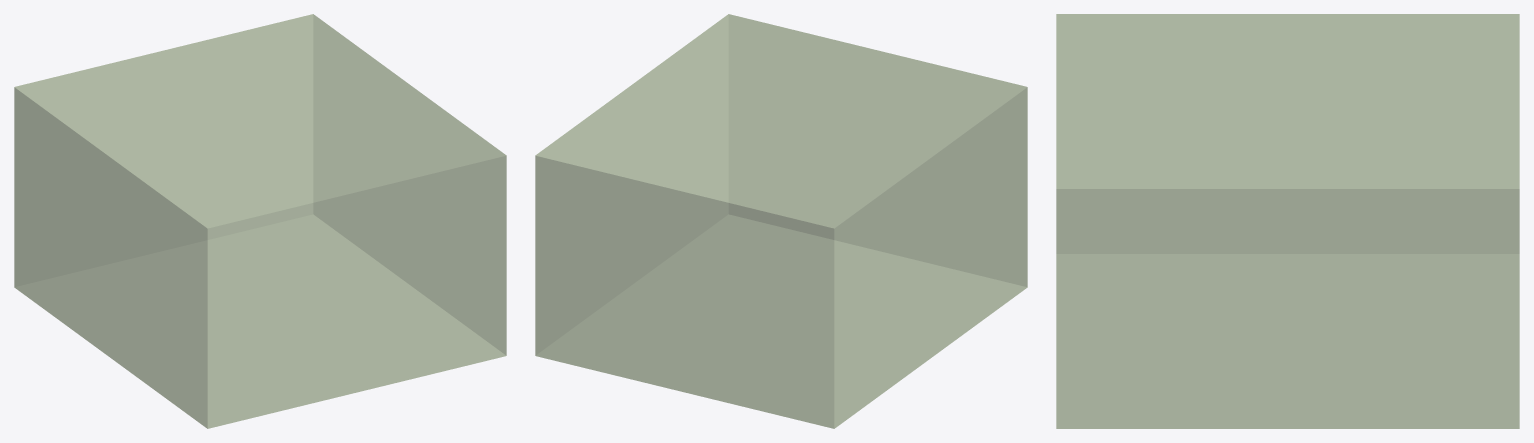
File: blockout.glb
The picture shows the model from 3 angles, left to right: view 1: azimuth 30°, elevation 25°; view 2: azimuth 150°, elevation 25°; view 3: azimuth 270°, elevation 25°; orthographic projection. The views are drawn at different scales.
Visible parts, largest first — view 1: U24_ENVELOPE_NOT_FINAL_MESH; view 2: U24_ENVELOPE_NOT_FINAL_MESH; view 3: U24_ENVELOPE_NOT_FINAL_MESH.
Part boxes in pixels (x1,y1,x2,y2): U24_ENVELOPE_NOT_FINAL_MESH: (14, 14, 506, 428); U24_ENVELOPE_NOT_FINAL_MESH: (535, 14, 1027, 428); U24_ENVELOPE_NOT_FINAL_MESH: (1056, 14, 1519, 428).
Bounding box in the file's own units: 2.5 × 1.6 × 2.8.
